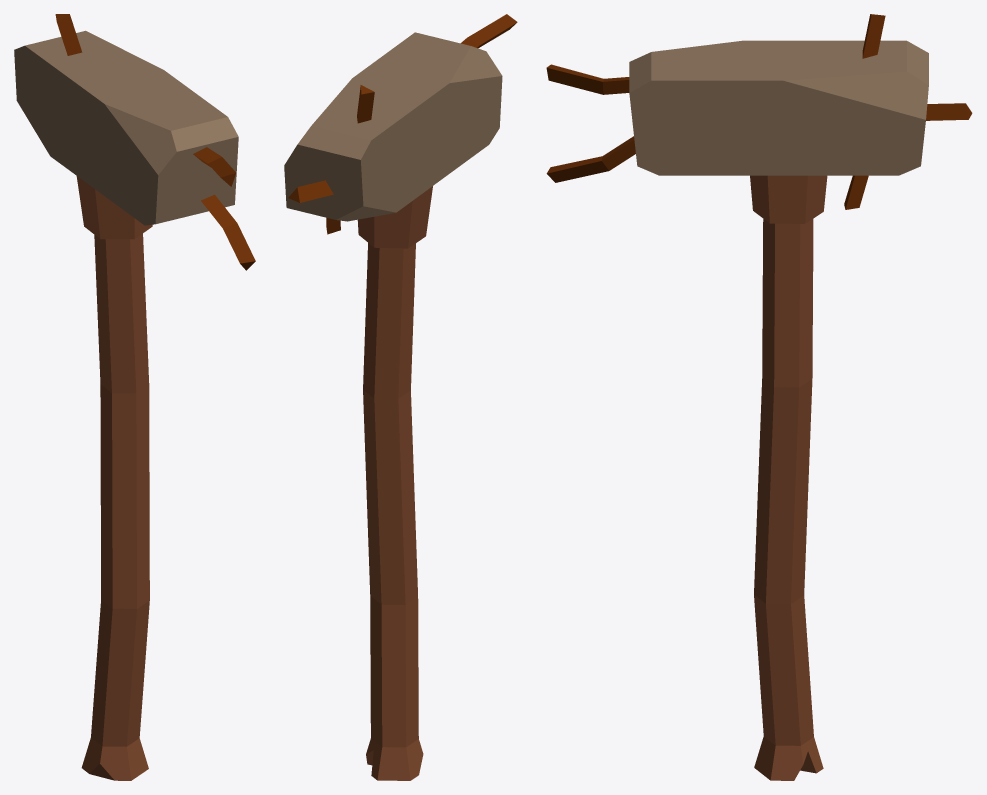
File: LP_PostApoc_RebarSledgeHammer.fbx
The picture shows the model from 3 angles, left to right: view 1: azimuth 30°, elevation 25°; view 2: azimuth 150°, elevation 25°; view 3: azimuth 270°, elevation 25°; orthographic projection. The views are drawn at different scales.
Parts seen in each view (by area): view 1: RebarSledgeHammer; view 2: RebarSledgeHammer; view 3: RebarSledgeHammer.
Part boxes in pixels (x1,y1,x2,y2): RebarSledgeHammer: [14, 14, 255, 780]; RebarSledgeHammer: [284, 14, 517, 780]; RebarSledgeHammer: [546, 14, 972, 780].
Bounding box in the file's own units: 12.76 × 112 × 57.5.
